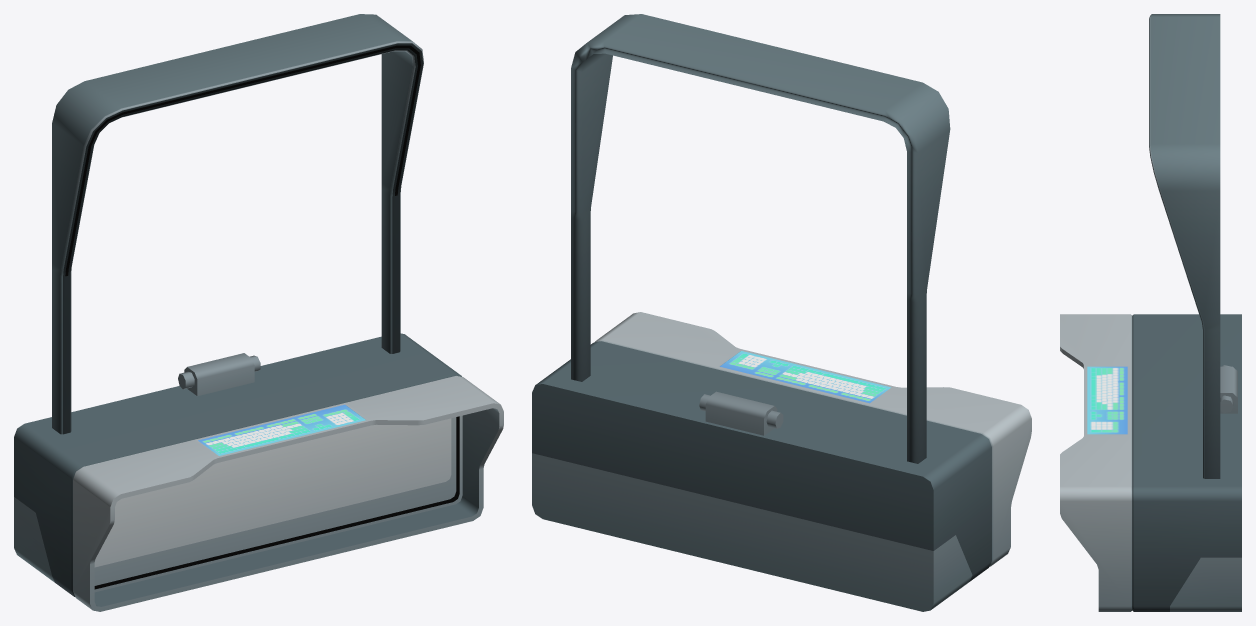
The model's file is Terminal_011.fbx.
The picture shows the model from 3 angles, left to right: view 1: azimuth 30°, elevation 25°; view 2: azimuth 150°, elevation 25°; view 3: azimuth 270°, elevation 25°; orthographic projection. The views are drawn at different scales.
Parts seen in each view (by area): view 1: Terminal_011; view 2: Terminal_011; view 3: Terminal_011.
Part boxes in pixels (<box>): Terminal_011: <box>14,14,503,611</box>; Terminal_011: <box>532,14,1031,611</box>; Terminal_011: <box>1060,14,1241,611</box>.
Size of the model in its own units: 200 by 84.74 by 229.
